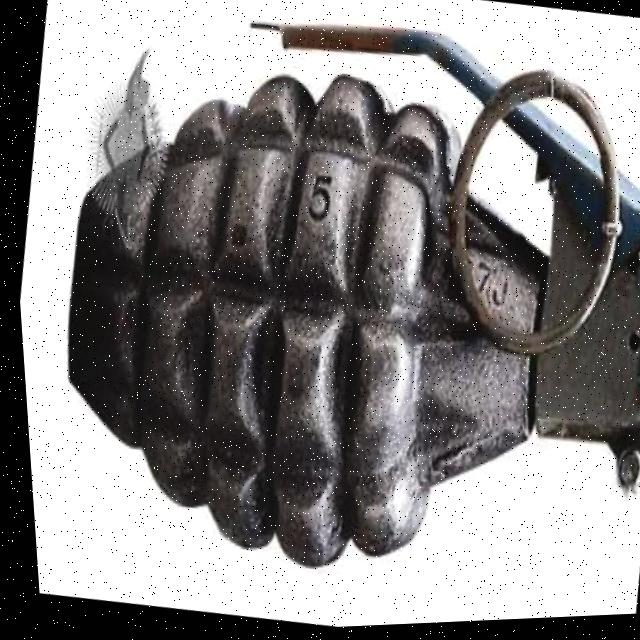grenade: (0, 0, 640, 624)
